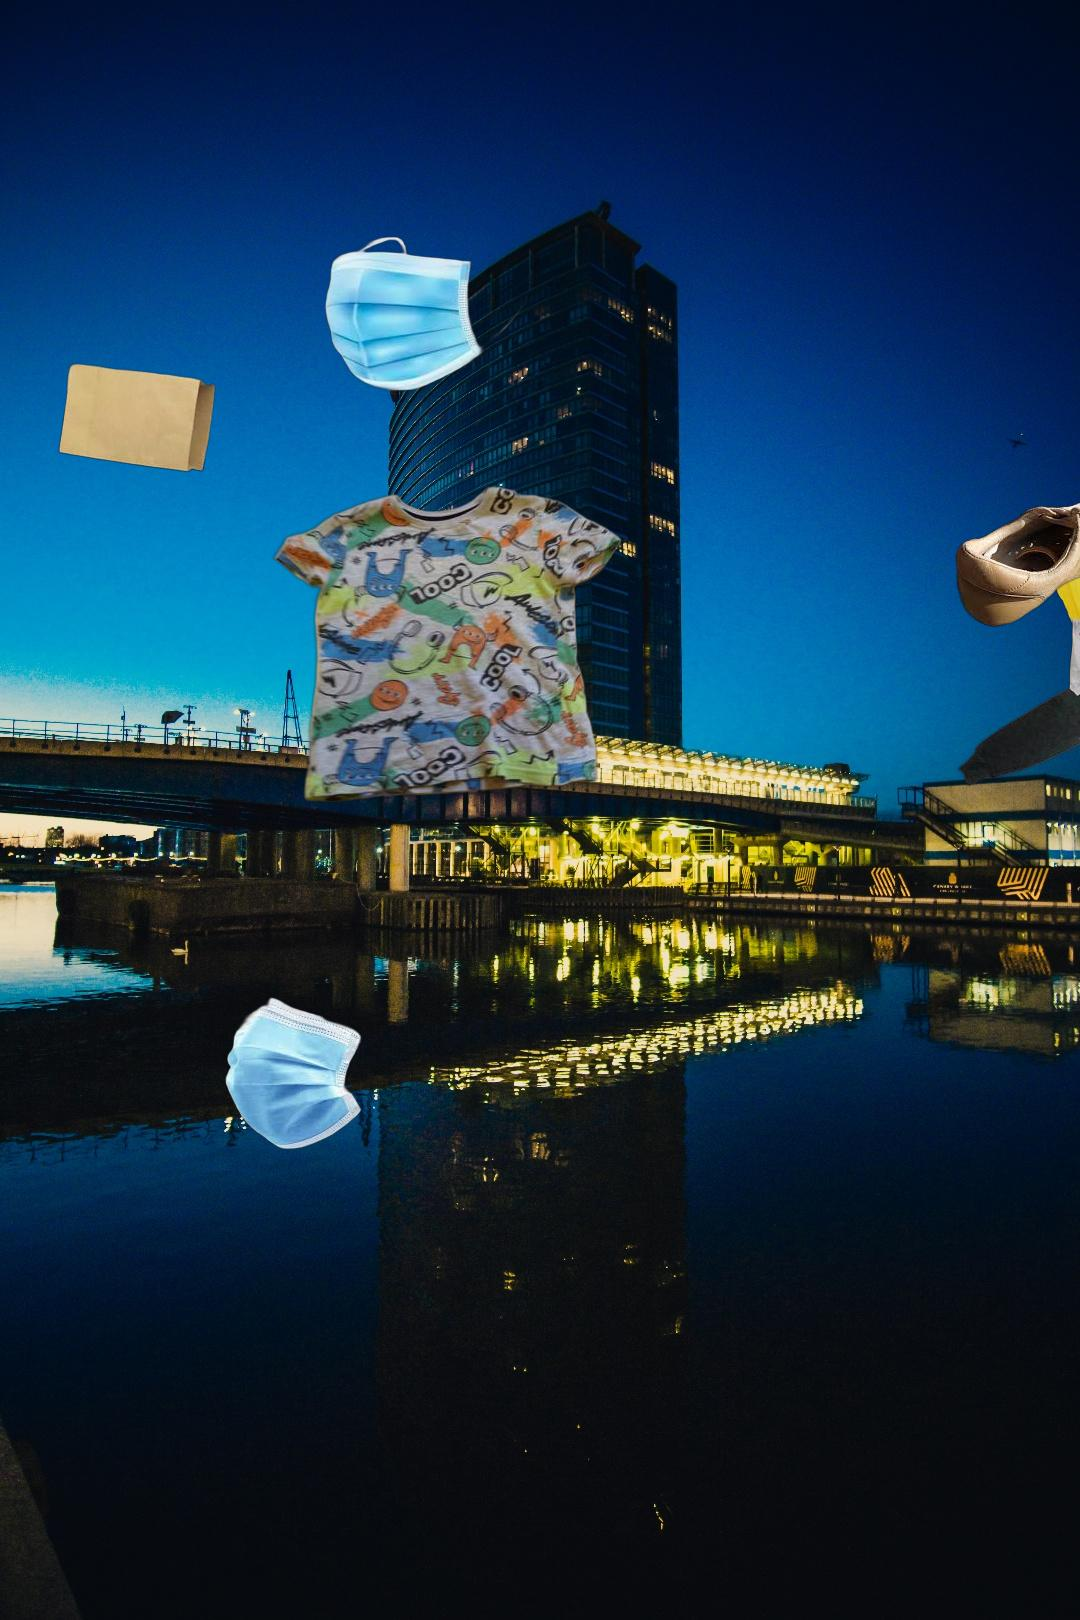clothes: (271, 482, 626, 806), (953, 562, 1080, 900)
paper-bag: (58, 360, 218, 472)
plastic-bag: (1045, 500, 1080, 722)
shoes: (953, 480, 1080, 647)
trash: (322, 234, 532, 395), (223, 994, 412, 1152)
